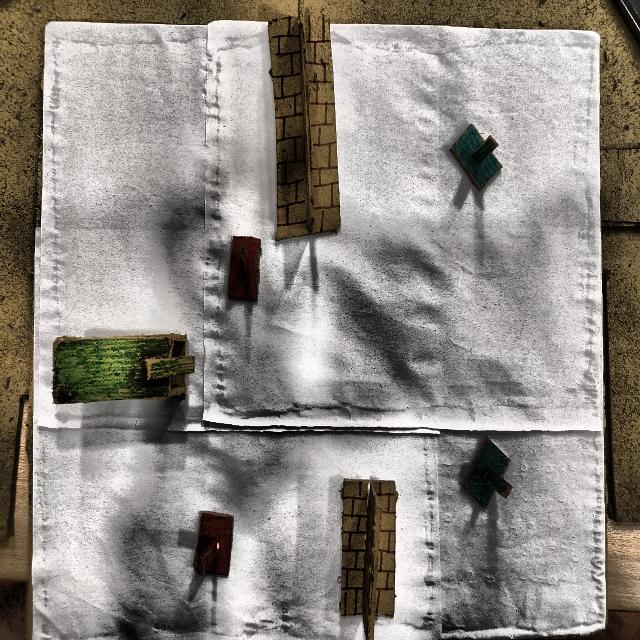Tank: (54, 332, 194, 406)
Wall: (268, 0, 342, 241), (340, 479, 399, 640)
enemy: (193, 512, 237, 588), (225, 234, 265, 316)
friend: (462, 436, 514, 512), (448, 123, 503, 194)
